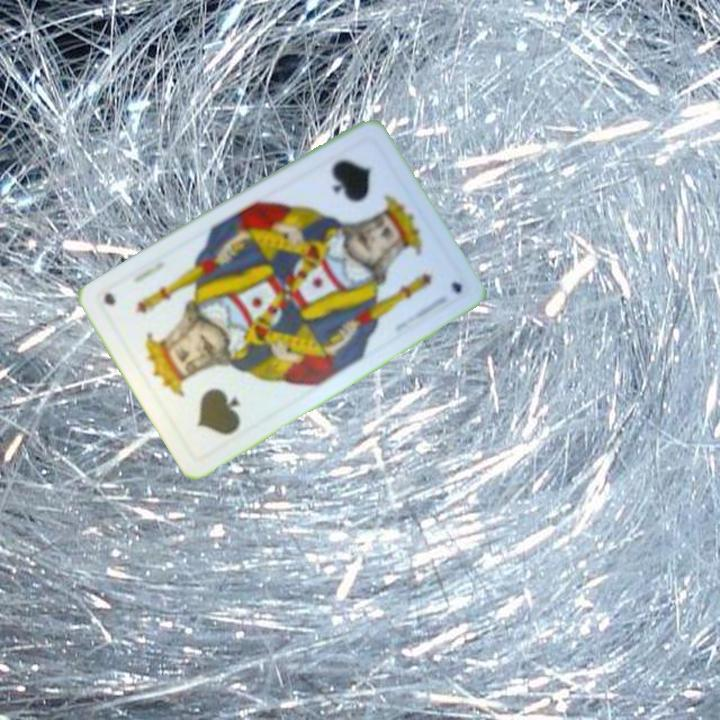s_k.png: (144, 334, 268, 462), (295, 130, 418, 258)
